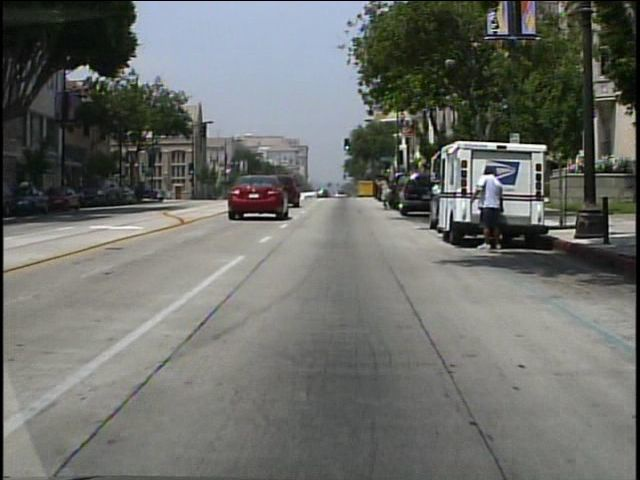person: (469, 165, 507, 250), (375, 173, 393, 212)
